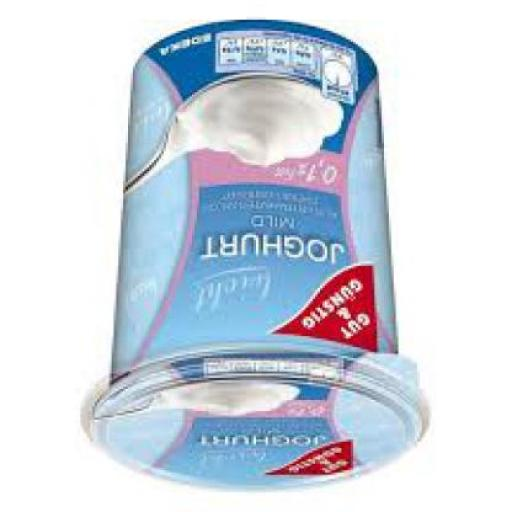plastic: (87, 27, 432, 494), (85, 352, 434, 496)
